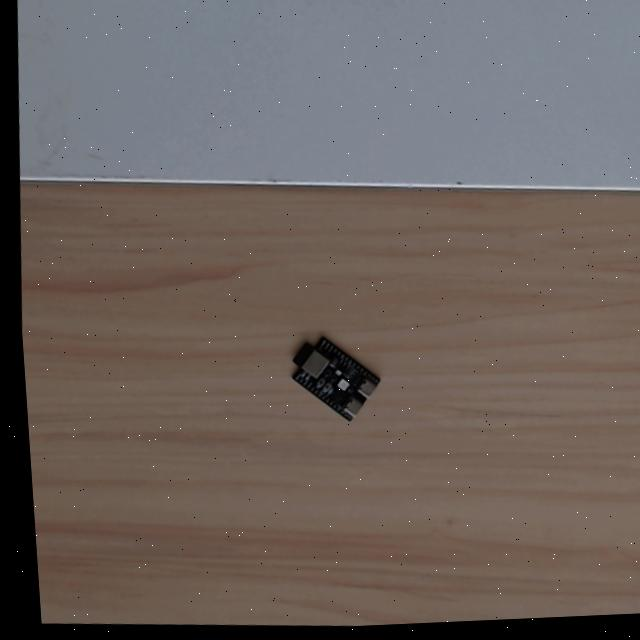ESP32C3-DevKit: (278, 326, 385, 426)
